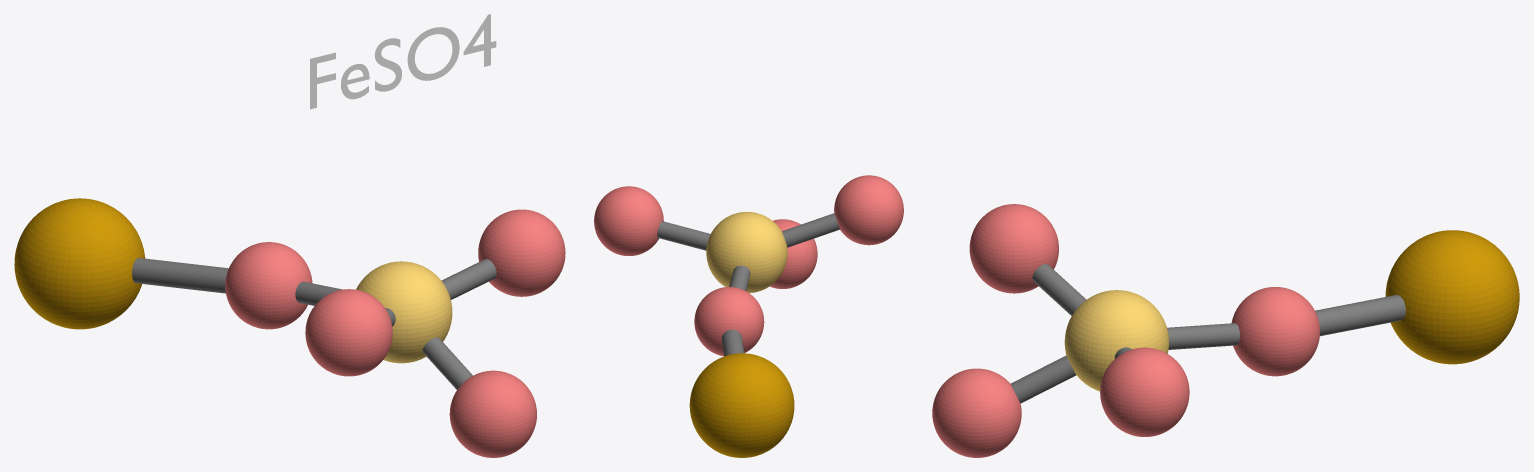
The model's file is FeSO4.glb.
3 views of the same model, side by side, from view 1: azimuth 30°, elevation 25°; view 2: azimuth 150°, elevation 25°; view 3: azimuth 270°, elevation 25° (orthographic). The views are drawn at different scales.
Parts seen in each view (by area): view 1: Fe, O3, O4, S, O1, O2, Label, Bond_Metal, Bond.003, Bond, Bond.001; view 2: Fe, S, O3, O1, O2, O4, Bond.002, Bond, Bond_Metal, Bond.001; view 3: Fe, S, O1, O4, O2, O3, Bond_Metal, Bond.001, Bond.003, Bond.002.
Boxes of the visible parts, x1,y1,x2,y2 form: Fe: (14, 198, 145, 329); O3: (305, 289, 392, 376); O4: (449, 370, 536, 457); S: (356, 261, 452, 363); O1: (478, 209, 565, 296); O2: (225, 242, 312, 329); Label: (310, 14, 496, 109); Bond_Metal: (132, 258, 228, 293); Bond.003: (422, 337, 472, 389); Bond: (441, 259, 496, 299); Bond.001: (295, 281, 342, 305); Fe: (689, 353, 794, 457); S: (706, 212, 787, 293); O3: (834, 175, 903, 245); O1: (594, 186, 663, 255); O2: (694, 287, 764, 356); O4: (770, 219, 817, 288); Bond.002: (782, 213, 839, 247); Bond: (657, 221, 710, 250); Bond_Metal: (721, 329, 744, 356); Bond.001: (729, 265, 750, 290); Fe: (1385, 230, 1519, 364); S: (1064, 290, 1168, 391); O1: (1100, 347, 1189, 436); O4: (932, 368, 1021, 457); O2: (1231, 287, 1320, 376); O3: (969, 204, 1058, 293); Bond_Metal: (1315, 295, 1405, 336); Bond.001: (1167, 323, 1239, 349); Bond.003: (1011, 355, 1076, 403); Bond.002: (1032, 264, 1086, 315).
Size of the model in its own units: 2.45 by 2.27 by 3.15.
